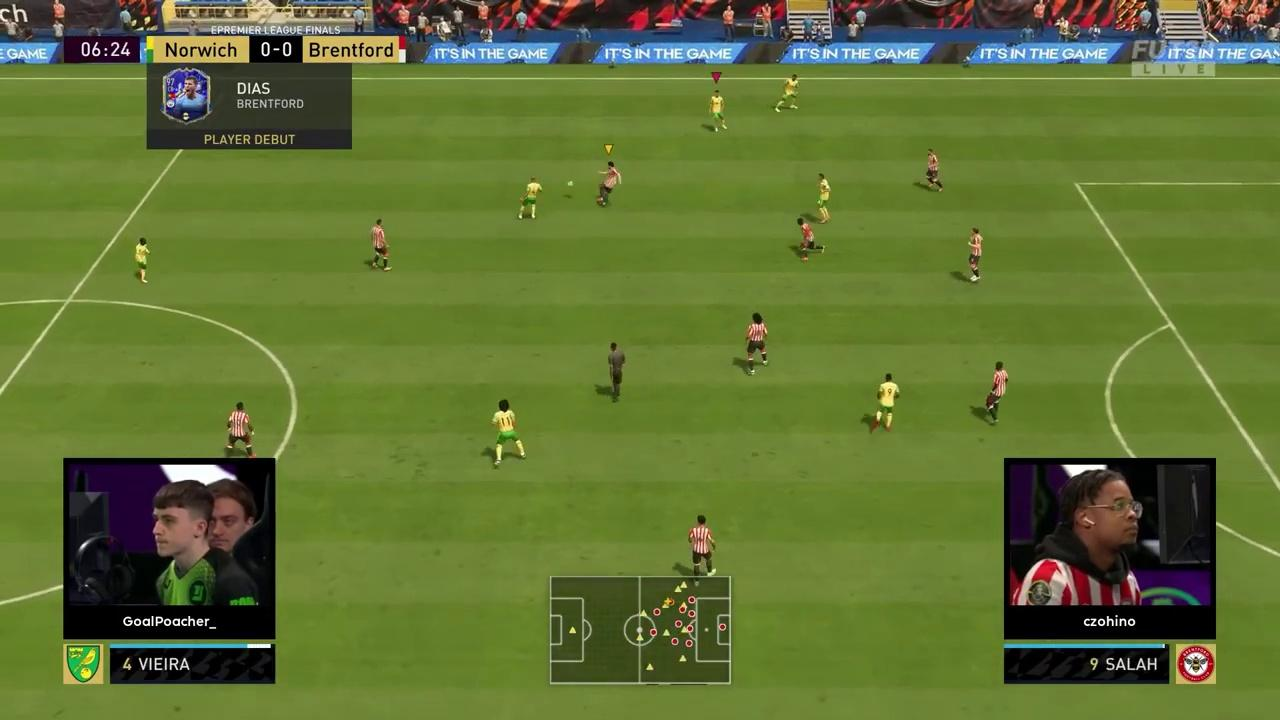scoreboard: (145, 36, 410, 67)
timestamp: (56, 30, 134, 63)
